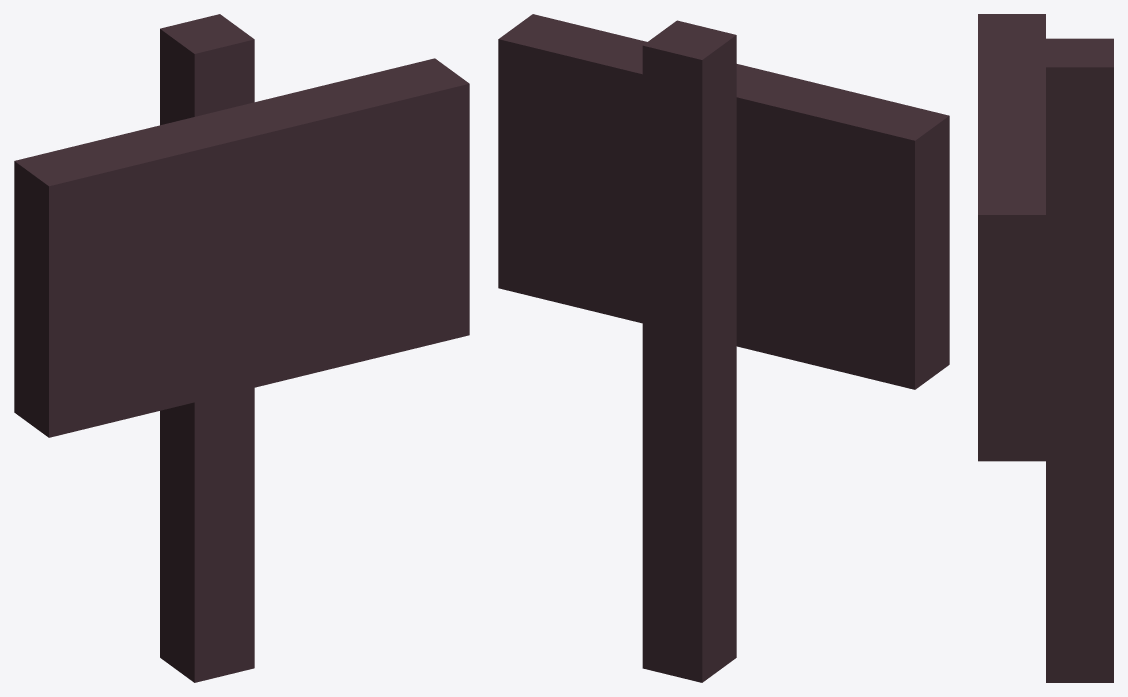
File: signpost_c.obj
3 renders of one model, left to right at view 1: azimuth 30°, elevation 25°; view 2: azimuth 150°, elevation 25°; view 3: azimuth 270°, elevation 25°, orthographic. The views are drawn at different scales.
Size of the model in its own units: 0.7 by 1 by 0.2.
Materials: 1 (1 with a texture image).
